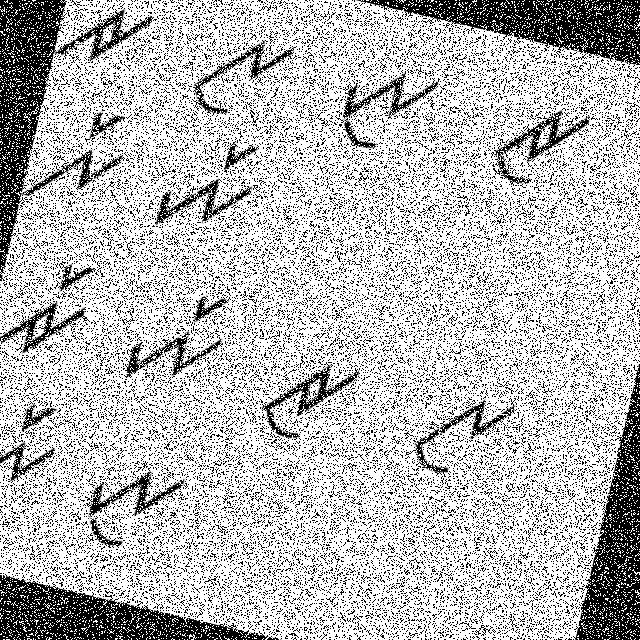lar: (21, 94, 136, 220), (0, 386, 71, 513)
law: (398, 368, 523, 493), (178, 14, 300, 133)
rar: (0, 243, 99, 373), (54, 0, 171, 78)
raw: (481, 76, 604, 204), (255, 342, 368, 458)
yar: (144, 122, 270, 252), (117, 272, 237, 398)
yaw: (66, 436, 193, 568), (331, 54, 446, 167)
